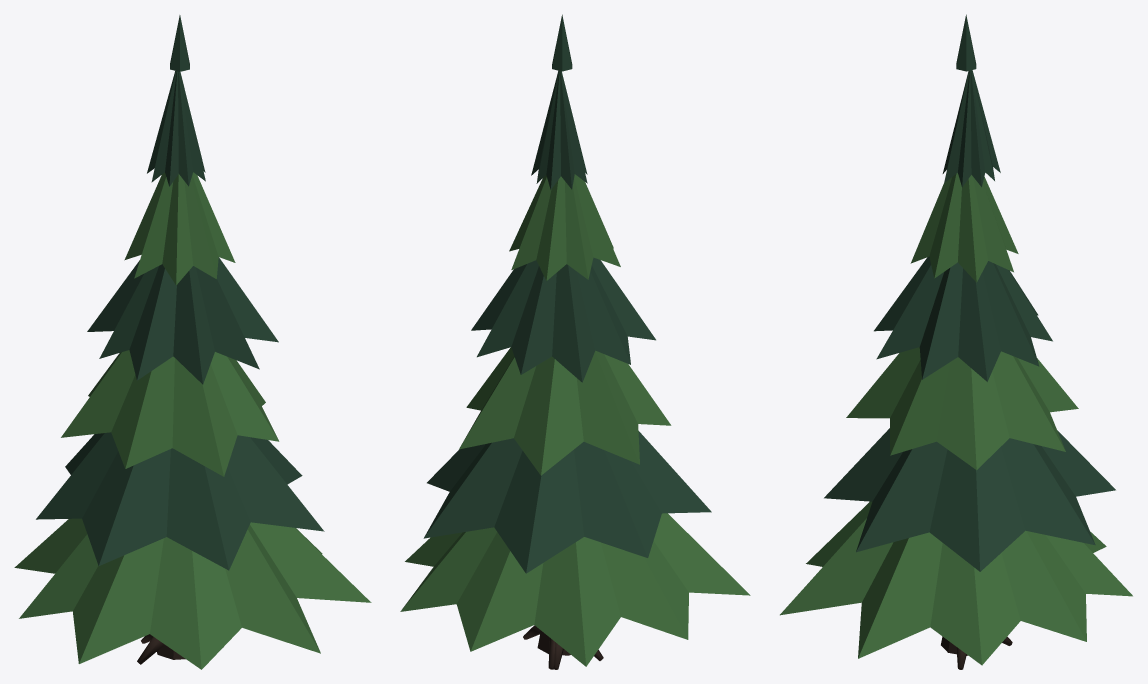
File: pine_c.glb
3 renders of one model, left to right at view 1: azimuth 30°, elevation 25°; view 2: azimuth 150°, elevation 25°; view 3: azimuth 270°, elevation 25°, orthographic.
Parts seen in each view (by area): view 1: pine_c; view 2: pine_c; view 3: pine_c.
Boxes of the visible parts, x1=… form: pine_c: x1=14, y1=15, x2=371, y2=669; pine_c: x1=400, y1=14, x2=750, y2=669; pine_c: x1=780, y1=14, x2=1132, y2=669.
Size of the model in its own units: 1.46 by 3.03 by 1.53.
